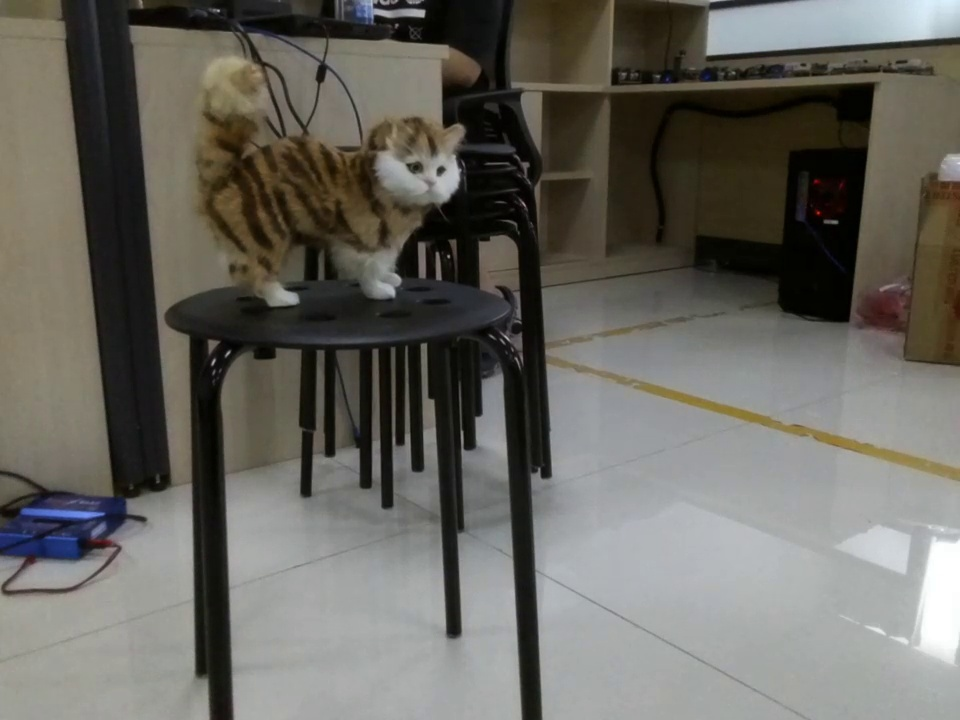cat: (188, 52, 462, 306)
